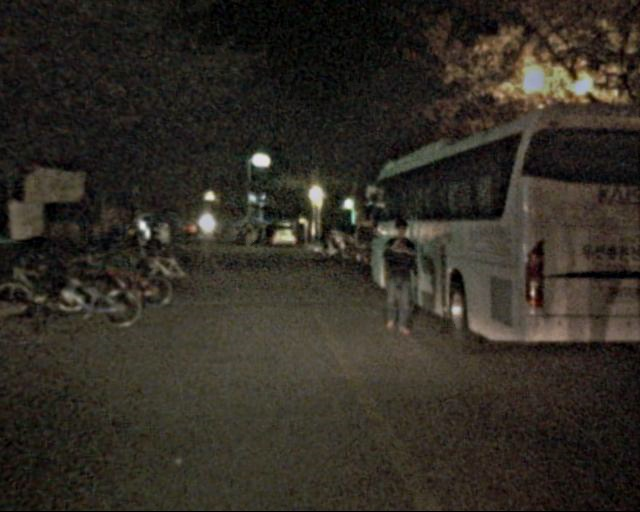person: (375, 220, 423, 338), (152, 213, 175, 268)
